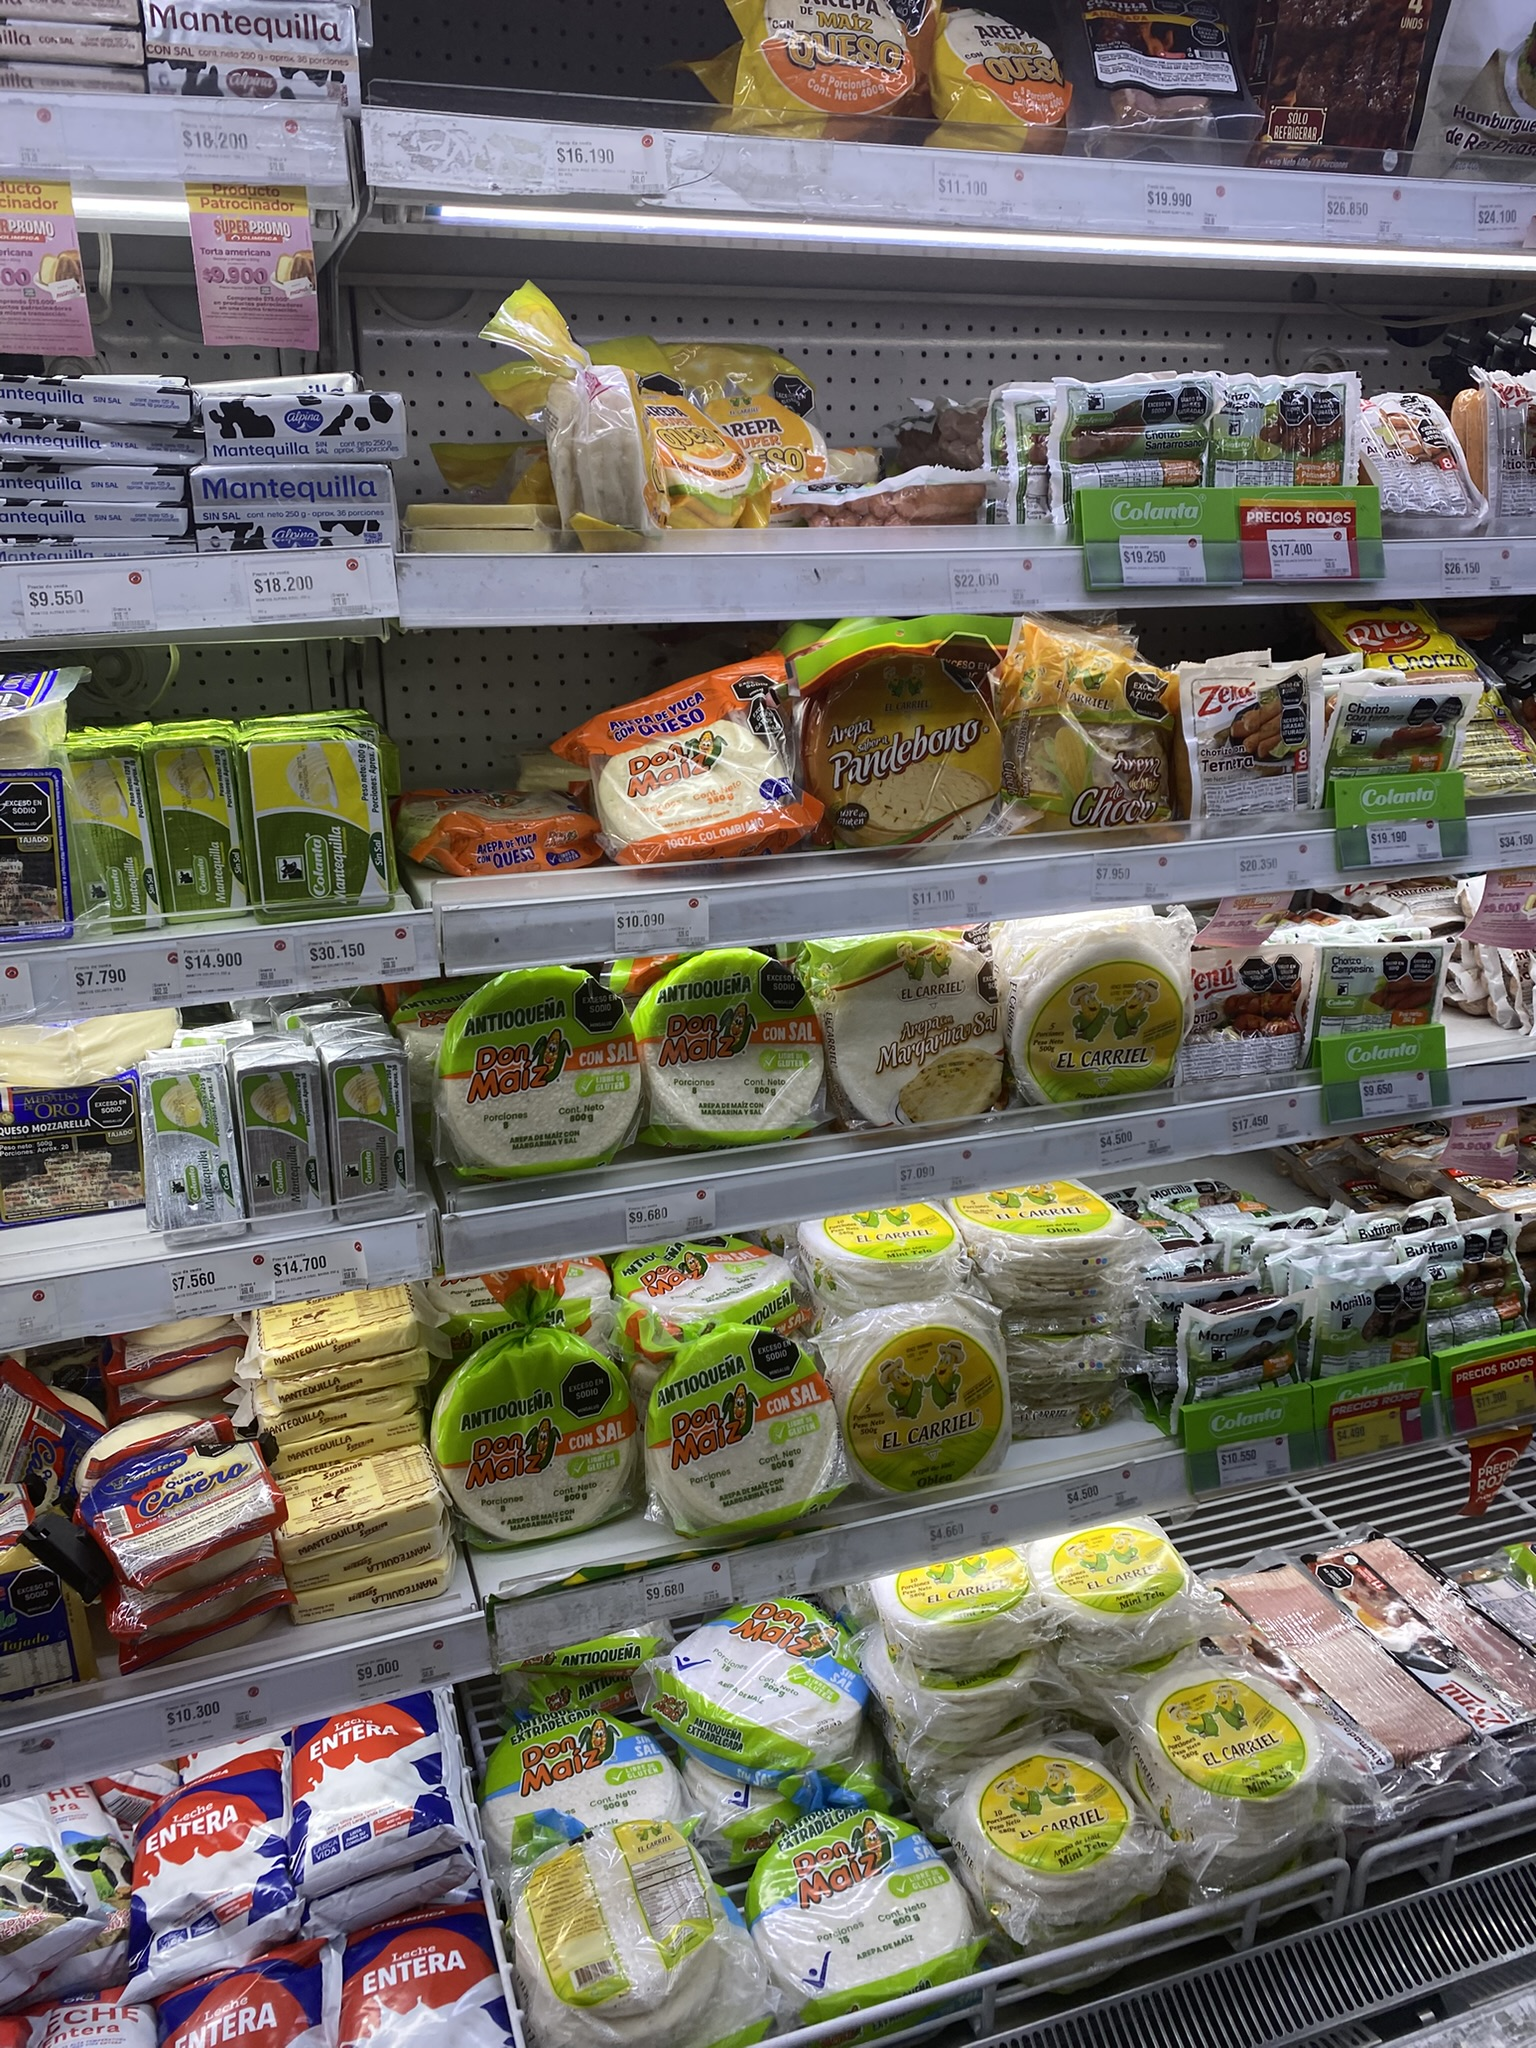Arepa: (536, 1801, 710, 2029), (1012, 901, 1200, 1108), (958, 1738, 1144, 1934), (1139, 1666, 1362, 1821), (834, 1314, 1010, 1466), (887, 1540, 1033, 1680), (800, 1187, 962, 1306), (1039, 1524, 1226, 1616), (962, 1174, 1131, 1272)
